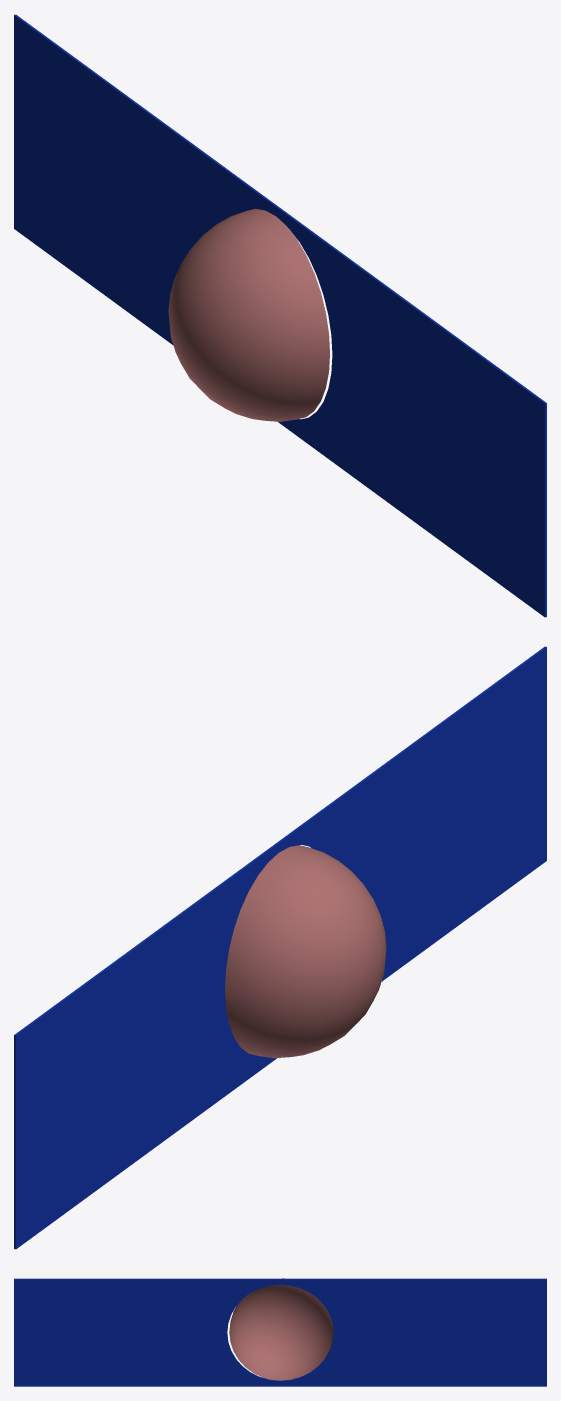
Rendered from 10x45 one nip.FBX.
3 views of the same model, one above another, from view 1: azimuth 30°, elevation 25°; view 2: azimuth 150°, elevation 25°; view 3: azimuth 270°, elevation 25° (orthographic). The views are drawn at different scales.
Parts seen in each view (by area): view 1: Box007; view 2: Box007; view 3: Box007.
Part boxes in pixels (<box>): Box007: <box>14,14,546,617</box>; Box007: <box>14,646,546,1249</box>; Box007: <box>14,1278,546,1386</box>.
Size of the model in its own units: 4.69 by 10 by 45.
